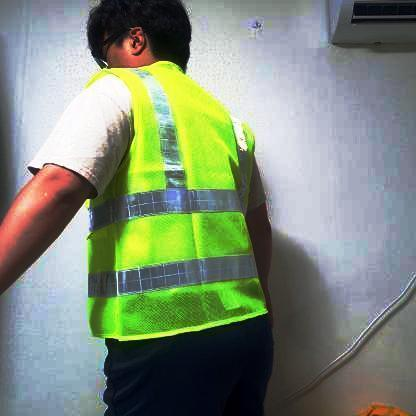no-helmet: (87, 0, 195, 57)
vest: (77, 62, 271, 342)
